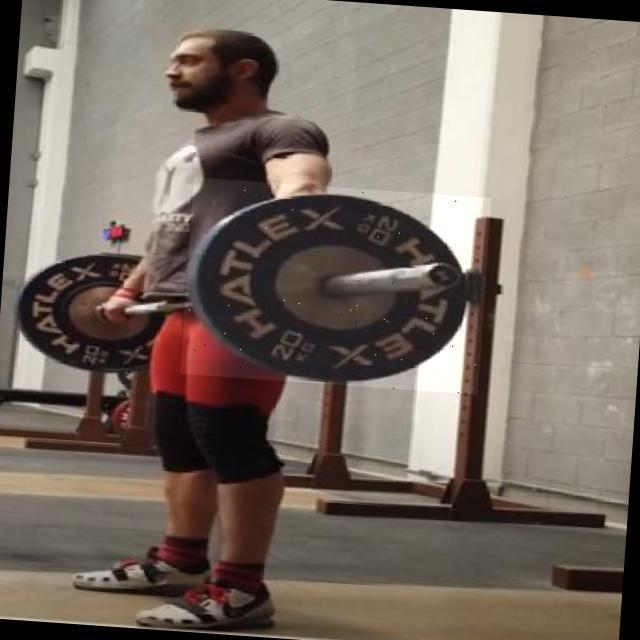barbell: (181, 178, 492, 395)
